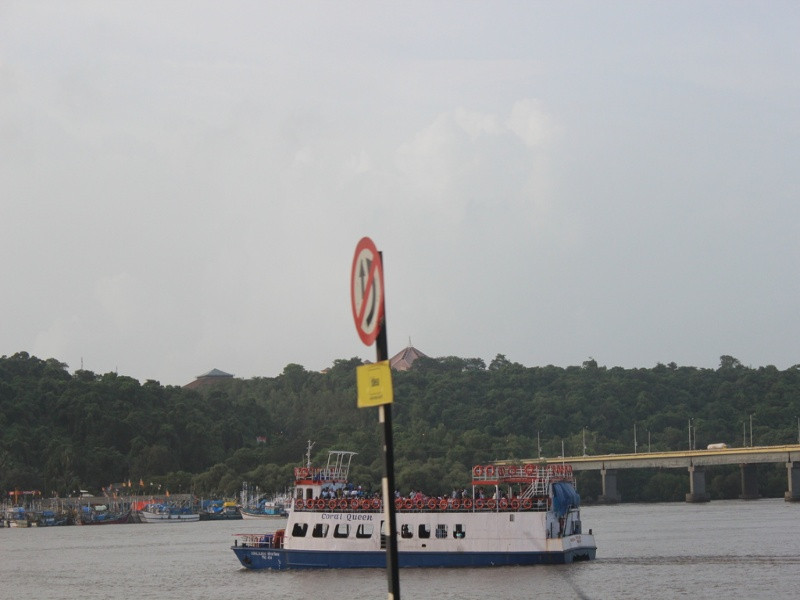no_left_turn: (348, 235, 389, 350)
